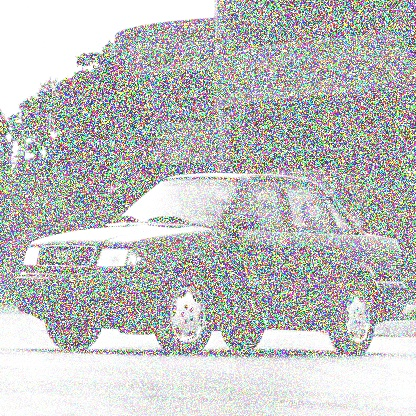Vehicle: (13, 171, 409, 360)
